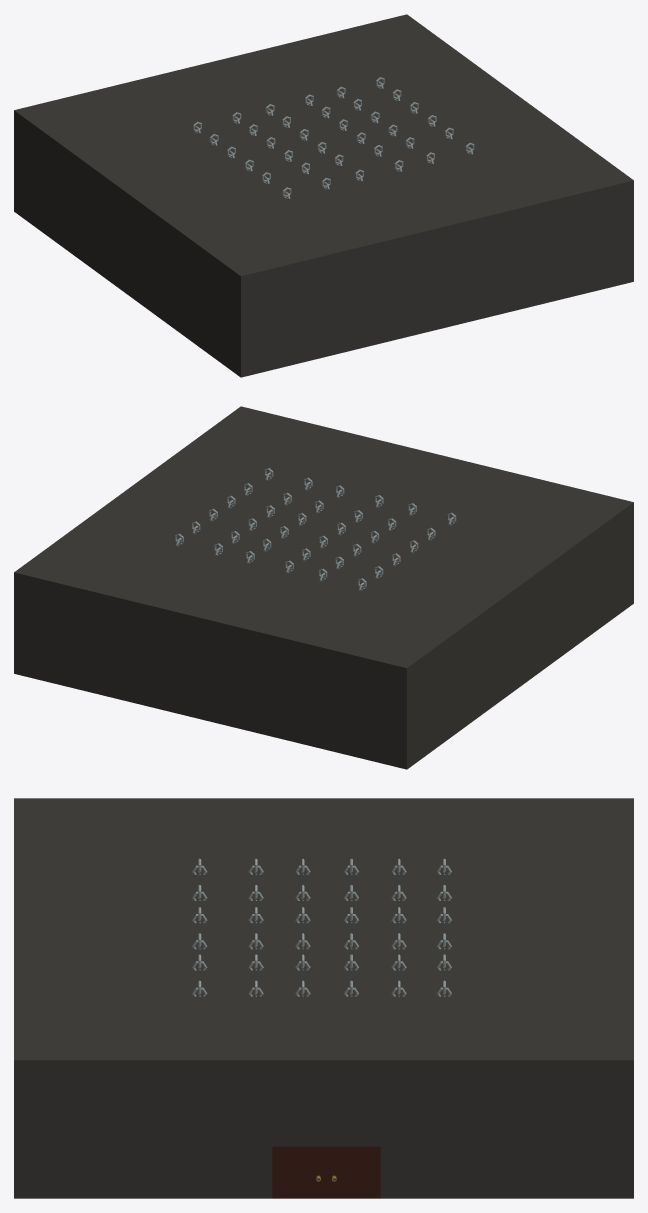
Rendered from Nicolas' Basement.glb.
The picture shows the model from 3 angles, top to bottom: view 1: azimuth 30°, elevation 25°; view 2: azimuth 150°, elevation 25°; view 3: azimuth 270°, elevation 25°; orthographic projection. The views are drawn at different scales.
Visible parts, largest first — view 1: Plane-col; view 2: Plane-col; view 3: Plane-col.
Boxes of the visible parts, left/top/right/bottom form: Plane-col: left=14, top=14, right=633, bottom=377; Plane-col: left=14, top=406, right=633, bottom=769; Plane-col: left=14, top=798, right=633, bottom=1198.
Bounding box in the file's own units: 40.17 × 10.97 × 40.
